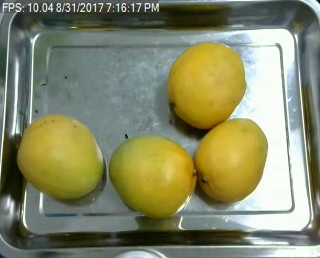Mango: (110, 133, 197, 219), (18, 114, 104, 199), (168, 43, 245, 127), (191, 119, 268, 200)
